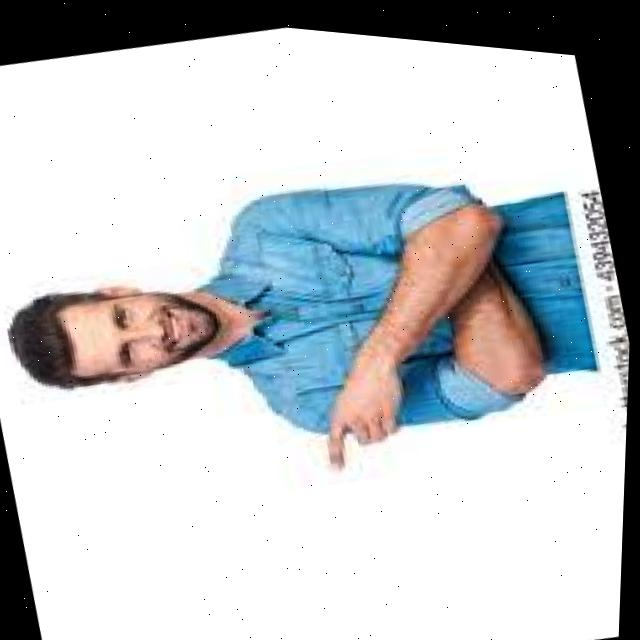happy: (3, 242, 275, 415)
